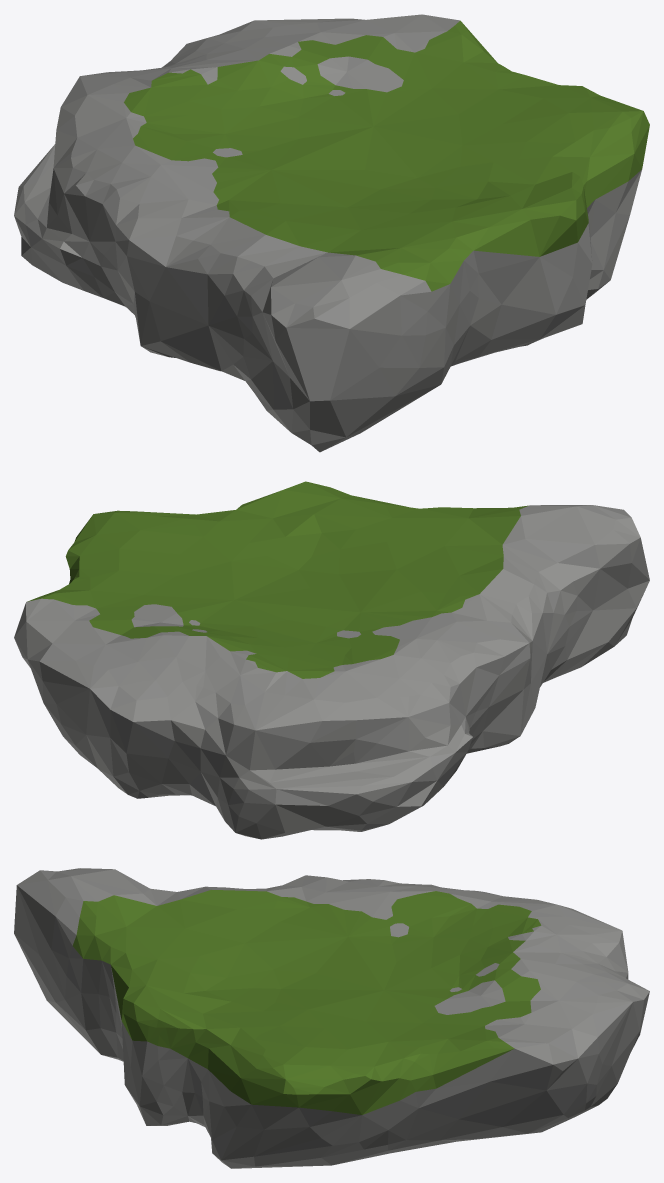
Rendered from Cavern_FloorGrass_Border_Corner-01.fbx.
The picture shows the model from 3 angles, top to bottom: view 1: azimuth 30°, elevation 25°; view 2: azimuth 150°, elevation 25°; view 3: azimuth 270°, elevation 25°; orthographic projection. The views are drawn at different scales.
Visible parts, largest first — view 1: Cavern_FloorGrass_Border_Corner-01; view 2: Cavern_FloorGrass_Border_Corner-01; view 3: Cavern_FloorGrass_Border_Corner-01.
Part boxes in pixels (x1=…): Cavern_FloorGrass_Border_Corner-01: x1=14, y1=14, x2=649, y2=452; Cavern_FloorGrass_Border_Corner-01: x1=14, y1=481, x2=649, y2=839; Cavern_FloorGrass_Border_Corner-01: x1=14, y1=868, x2=649, y2=1168.
Size of the model in its own units: 1703 by 540 by 2075.
Materials: 1 (1 with a texture image).
